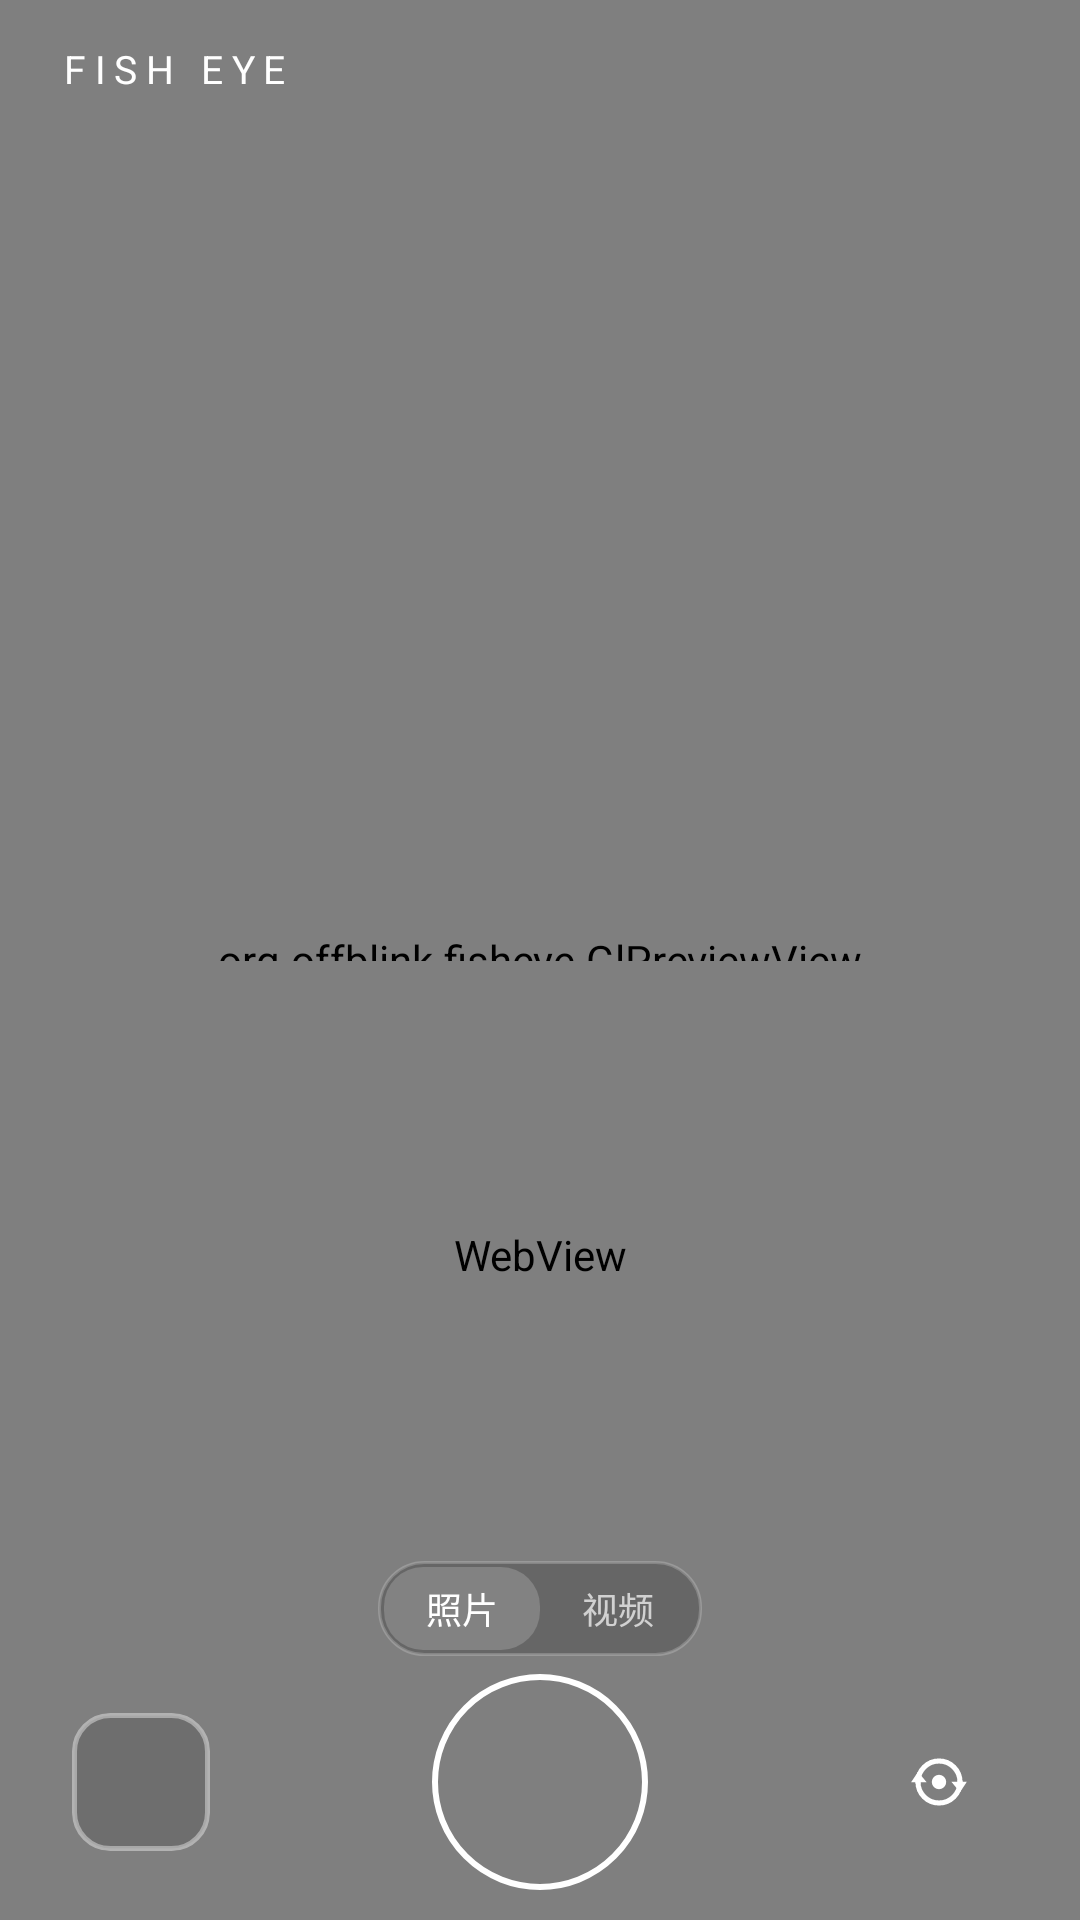

Named icons in this screenshot (1080×1920) and their bounding boxes, [left=x1, top=y1, right=x2, bottom=y2]:
shutter ring: [left=432, top=1674, right=648, bottom=1890]
翻转镜头: [left=911, top=1758, right=967, bottom=1806]
